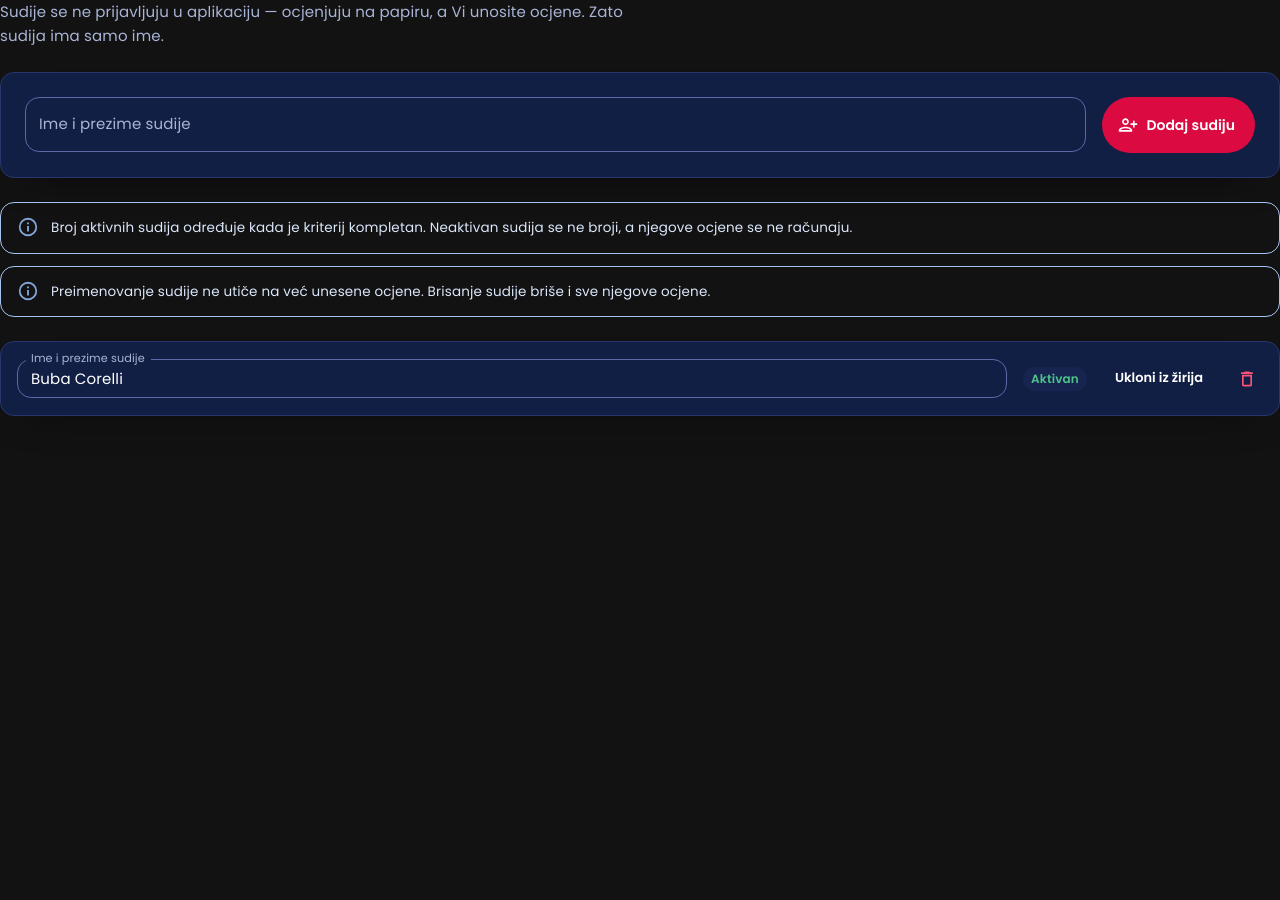
Test: JudgesTab › backs out of a delete without touching the judge
Expected: the 2nd field showing "Buba Corelli" is shown, [17,359,1007,398]
Click the button named "Obrisati sudiju?": (1247, 379) [1231,363,1263,395]
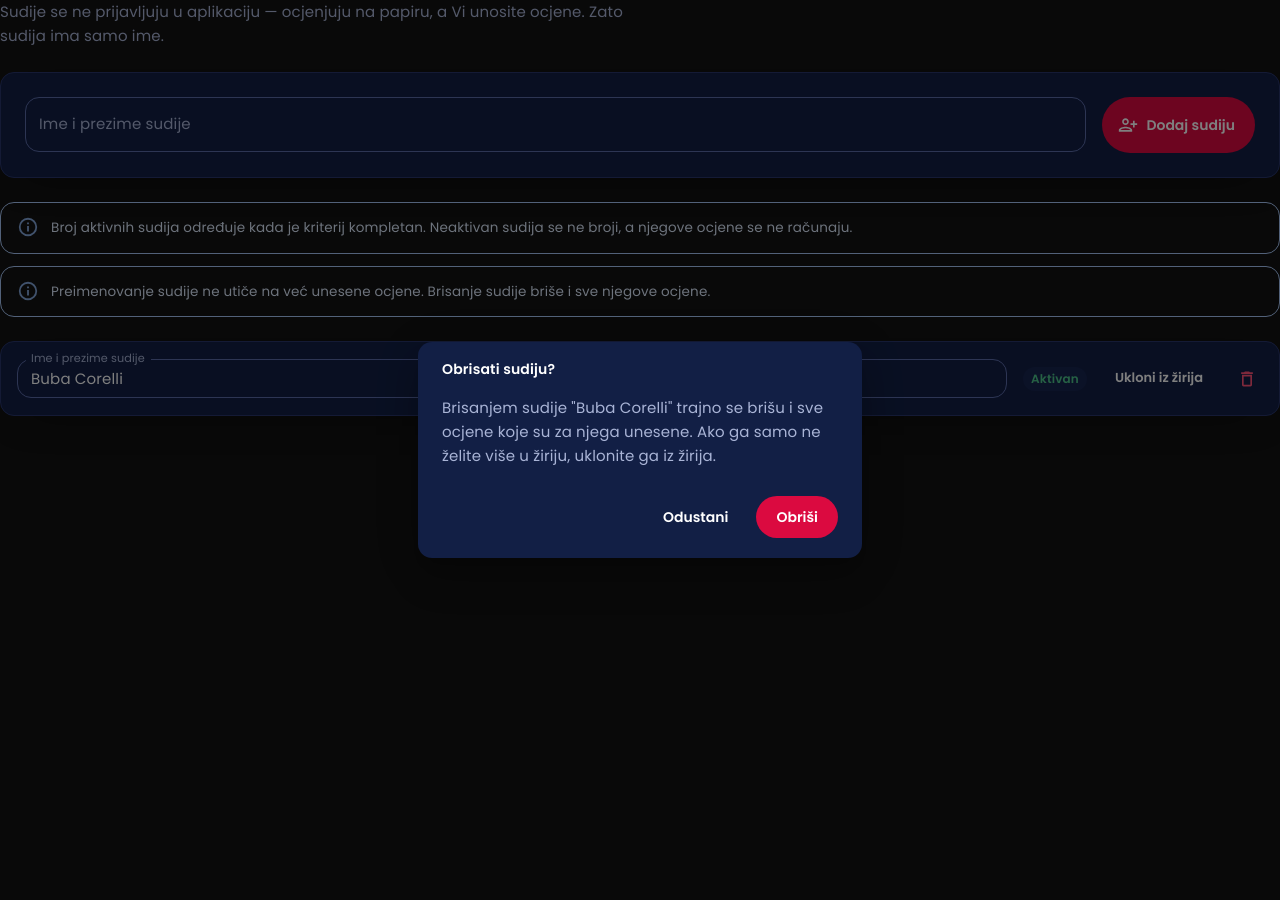
Click the button "Odustani": (696, 517) [643,496,748,538]
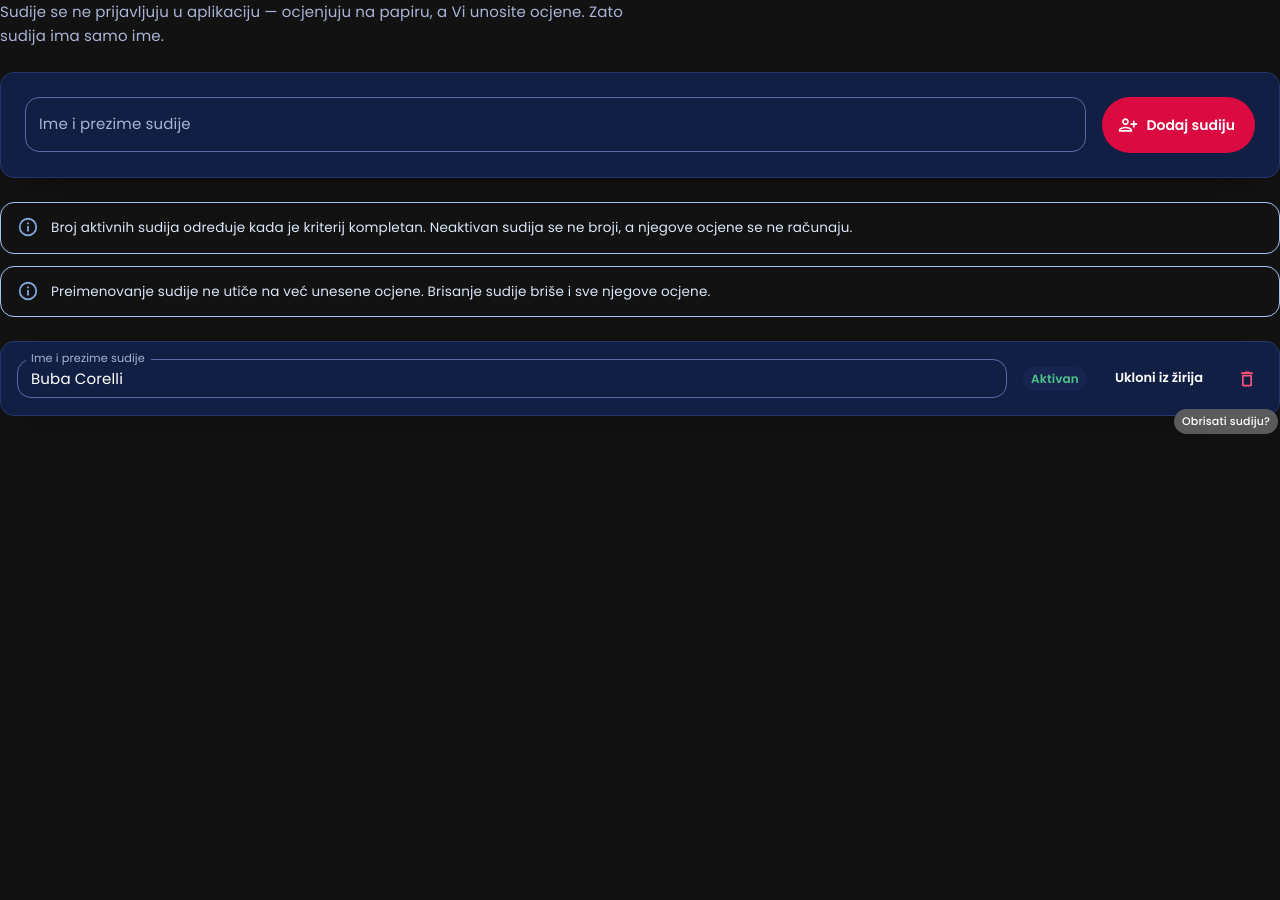
Result: the dialog is gone
